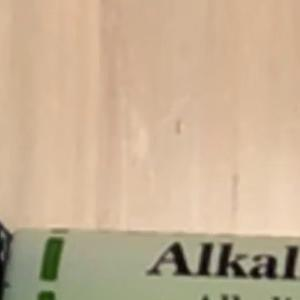ALK: (137, 232, 224, 287)
